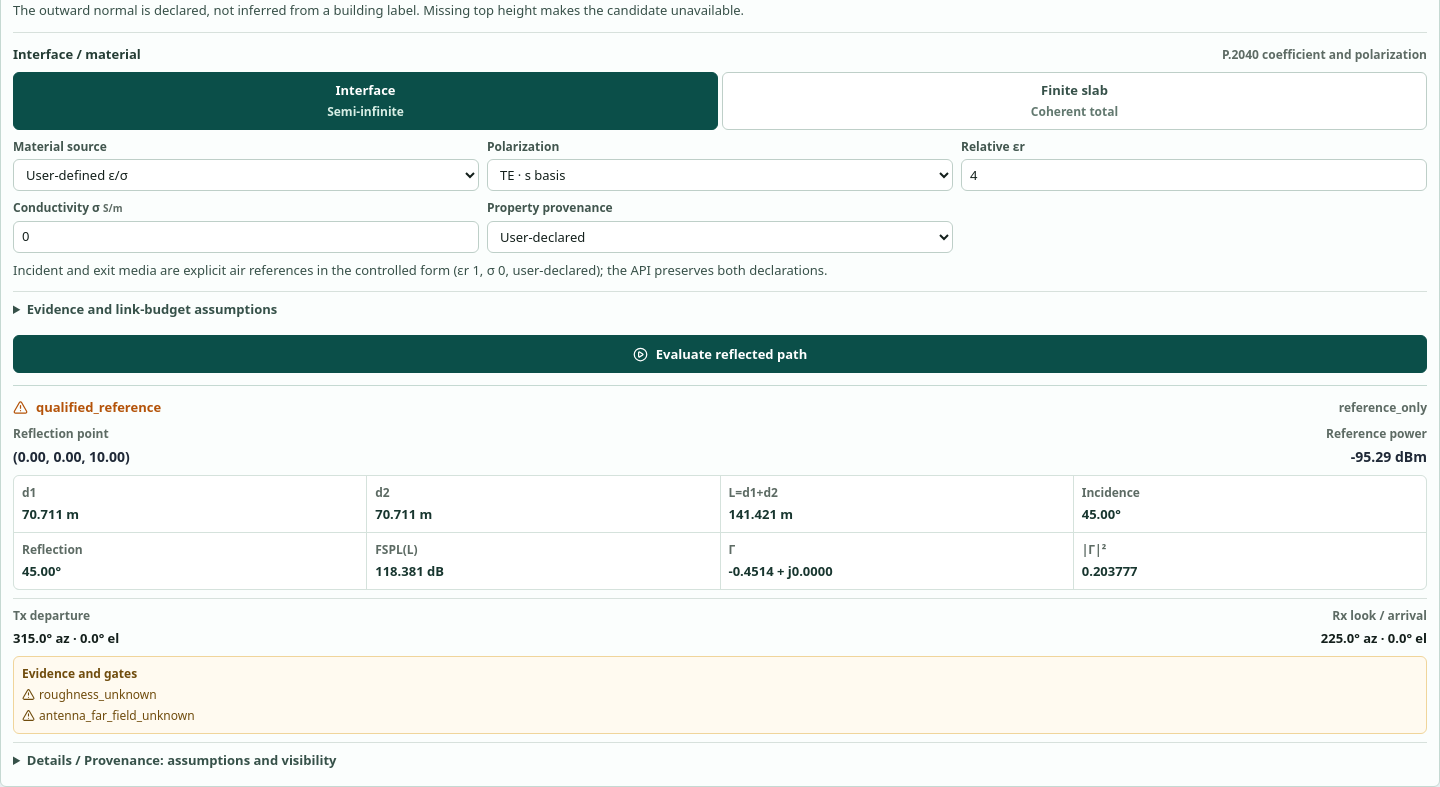
Test: SpecularReflectionReferencePanel › renders qualification evidence and the total-path ledger
(page scrolled)
Expected: the text "qualified_reference" is shown, [36,398,161,417]
Expected: the text "-95.29 dBm" is shown, [1351,446,1427,466]
What coordinates should you click on to do the following:
click the heading "Details / Provenance: assumptions and visibility"
I would click on:
 (182, 760)
Its box is [27,751,336,769].
(page scrolled)
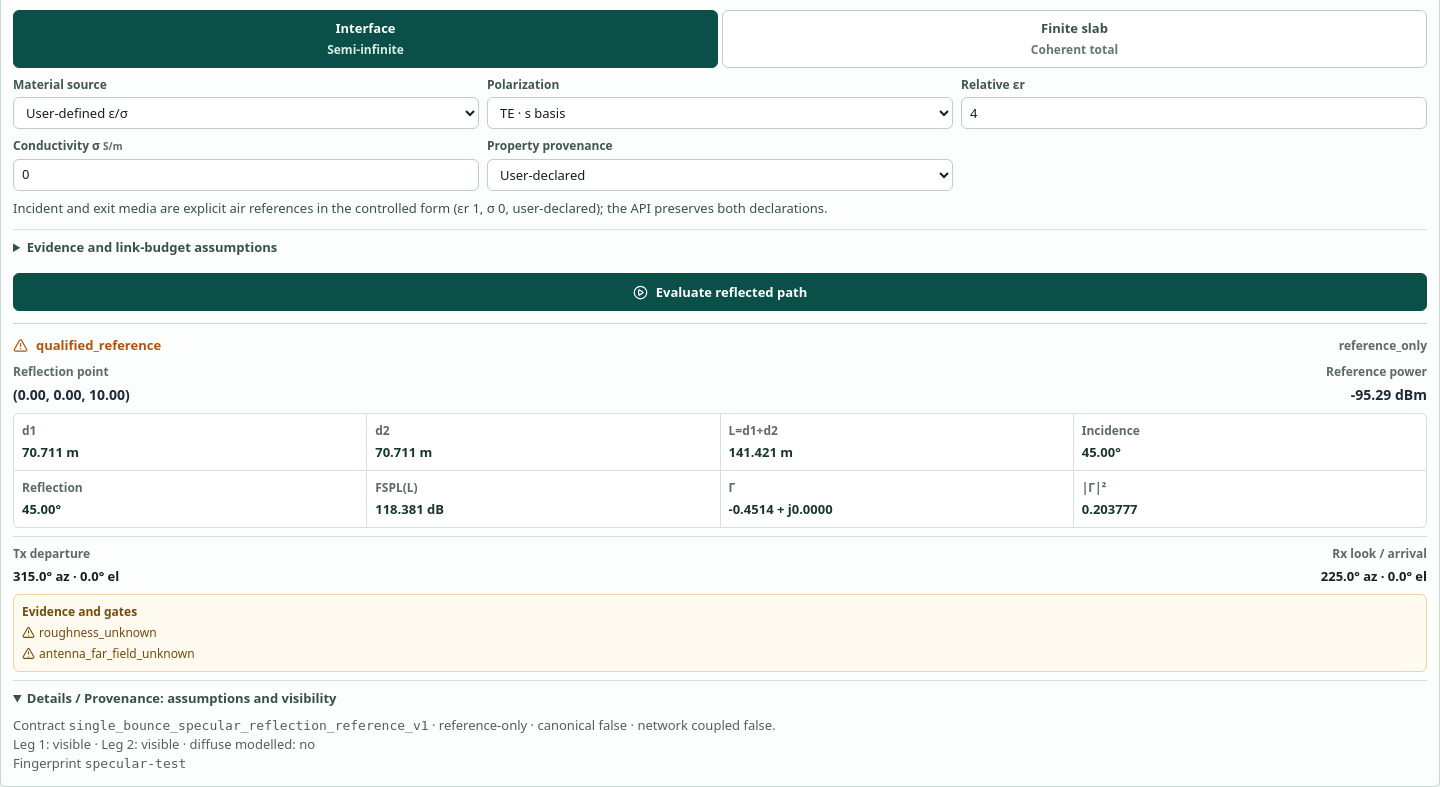
Result: the text "single_bounce_specular_reflection_reference_v1" is shown at [68,718,428,732]
